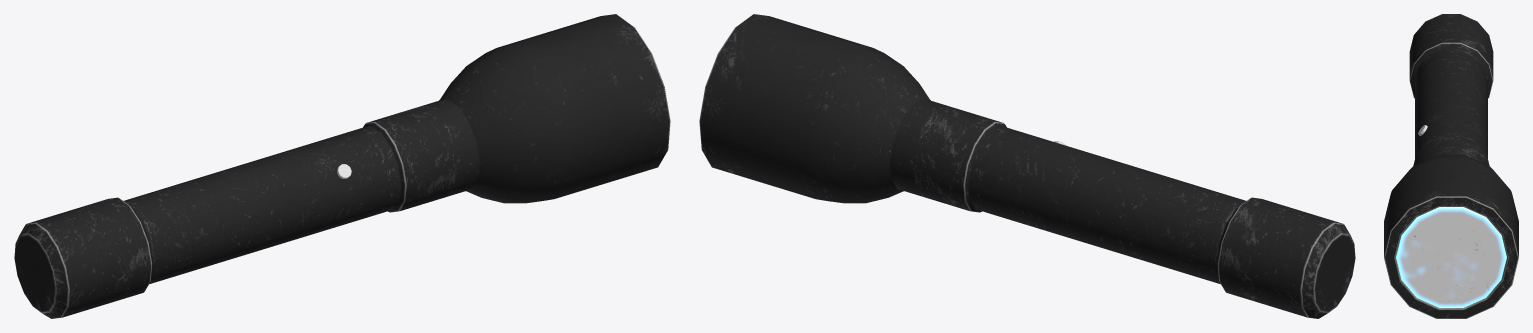
File: Flashlight.fbx
3 views of the same model, side by side, from view 1: azimuth 30°, elevation 25°; view 2: azimuth 150°, elevation 25°; view 3: azimuth 270°, elevation 25° (orthographic). The views are drawn at different scales.
Parts seen in each view (by area): view 1: FlashLight; view 2: FlashLight; view 3: FlashLight, Circle.001.
Boxes of the visible parts, box(x1,y1,x2,y2) form: FlashLight: box(14, 14, 670, 318); FlashLight: box(699, 14, 1355, 318); FlashLight: box(1384, 14, 1518, 318); Circle.001: box(1396, 207, 1506, 307).
Bounding box in the file's own units: 29.77 × 7.24 × 7.01.
Materials: 1 (1 with a texture image).
